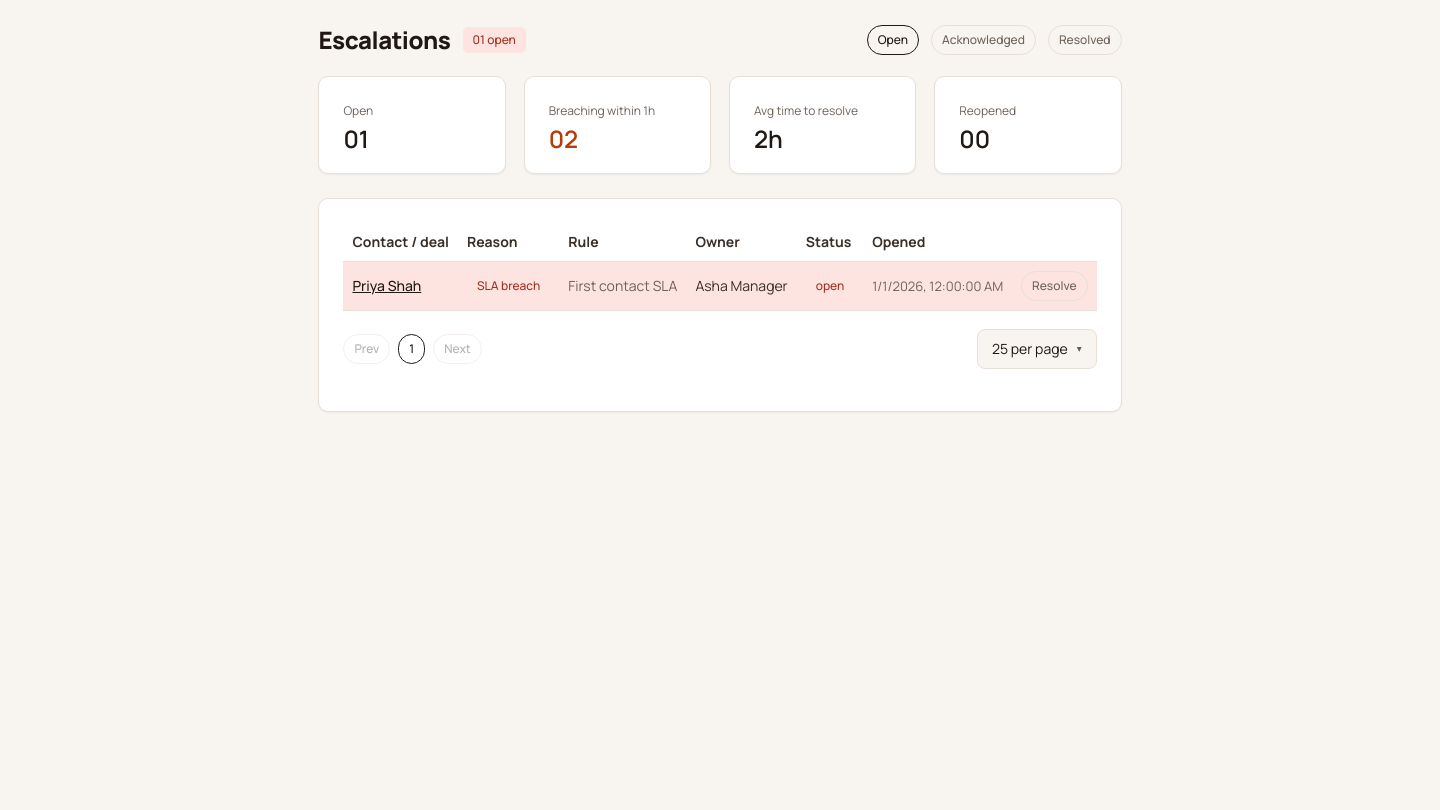
EscalationsPage › opens the resolve drawer and resolves with a note
The image size is (1440, 810).
Expected: the button "Priya Shah" is shown, [352,276,421,296]
Click the button "Resolve" at x=1054, y=286, box [1021,271,1088,301]
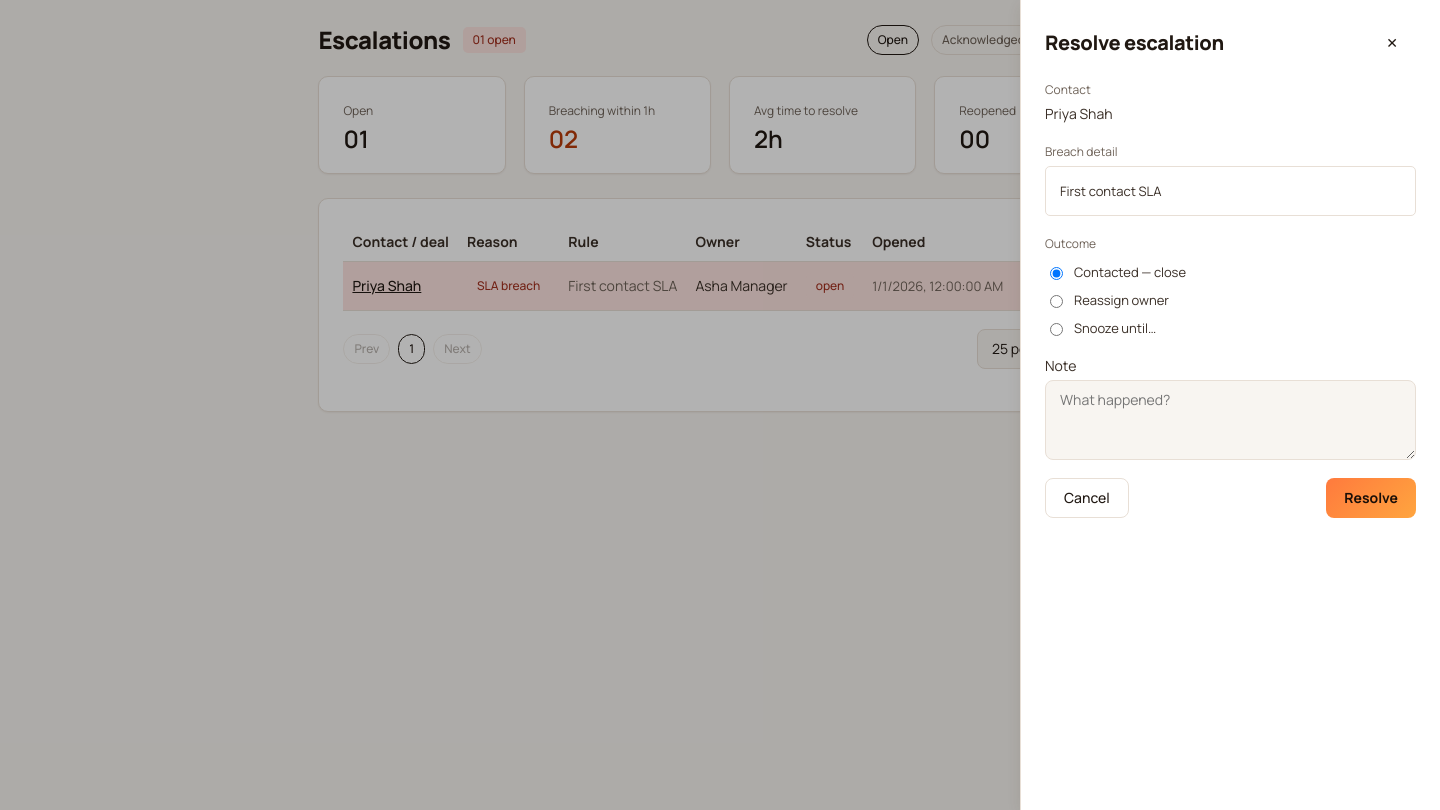
Now the dialog "Resolve escalation" is shown, box [1020,0,1439,809]
Type "Called back, all good" into the text box with placeholder "What happened?" at x=1230, y=420, box [1045,380,1416,460]
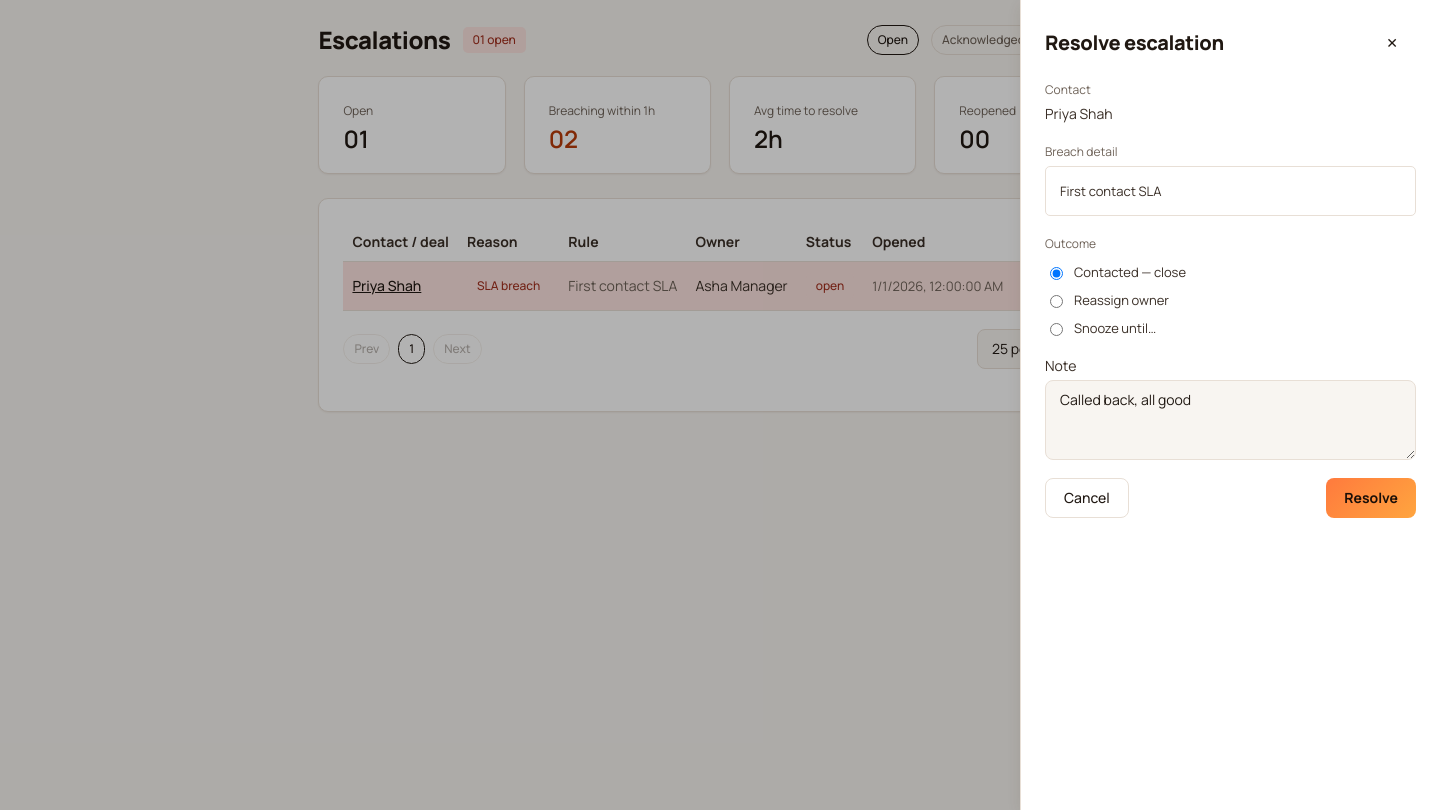
Click the button "Resolve" at x=1371, y=498, box [1326,478,1416,518]
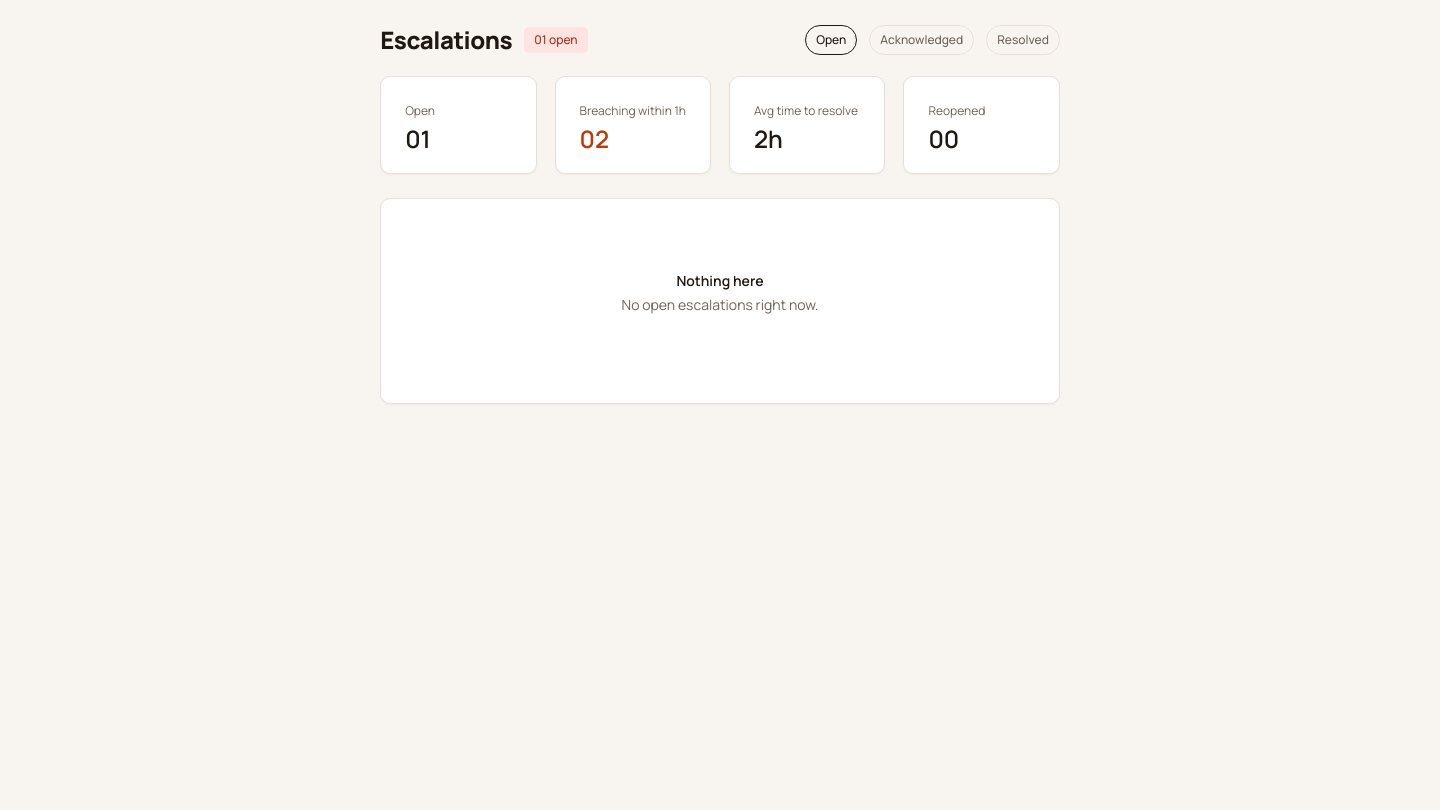
Now the button "Priya Shah" is gone
